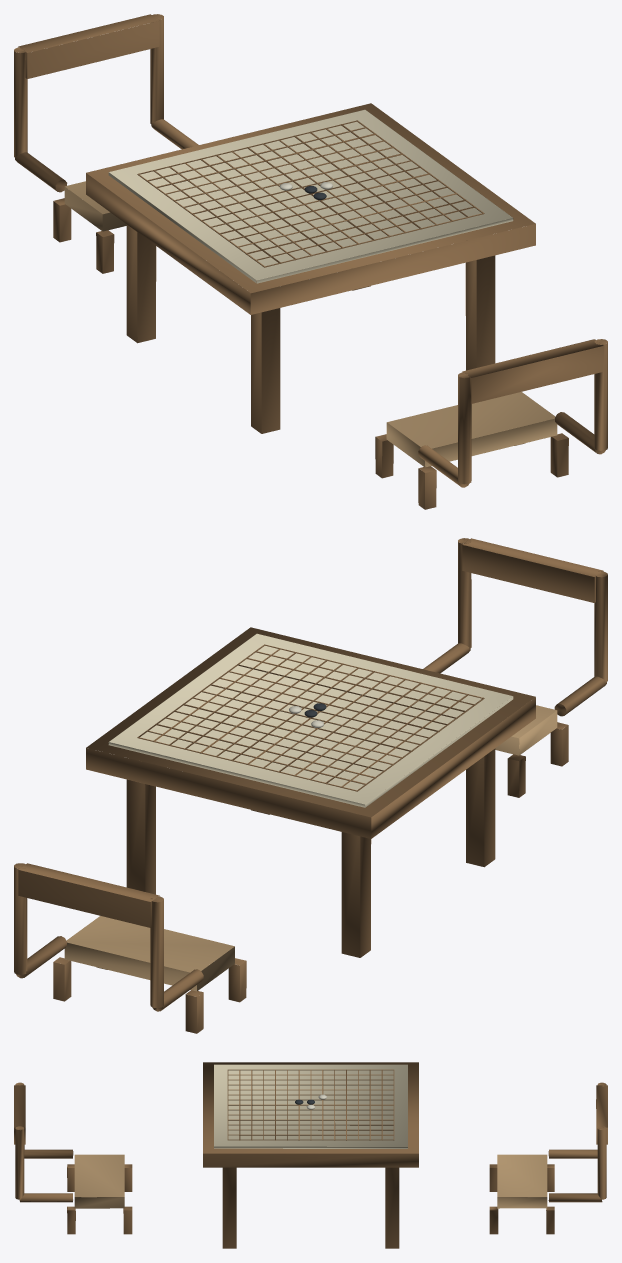
The model's file is table_omok.glb.
The picture shows the model from 3 angles, top to bottom: view 1: azimuth 30°, elevation 25°; view 2: azimuth 150°, elevation 25°; view 3: azimuth 270°, elevation 25°; orthographic projection. The views are drawn at different scales.
Bounding box in the file's own units: 1.38 × 0.7825 × 3.8.
